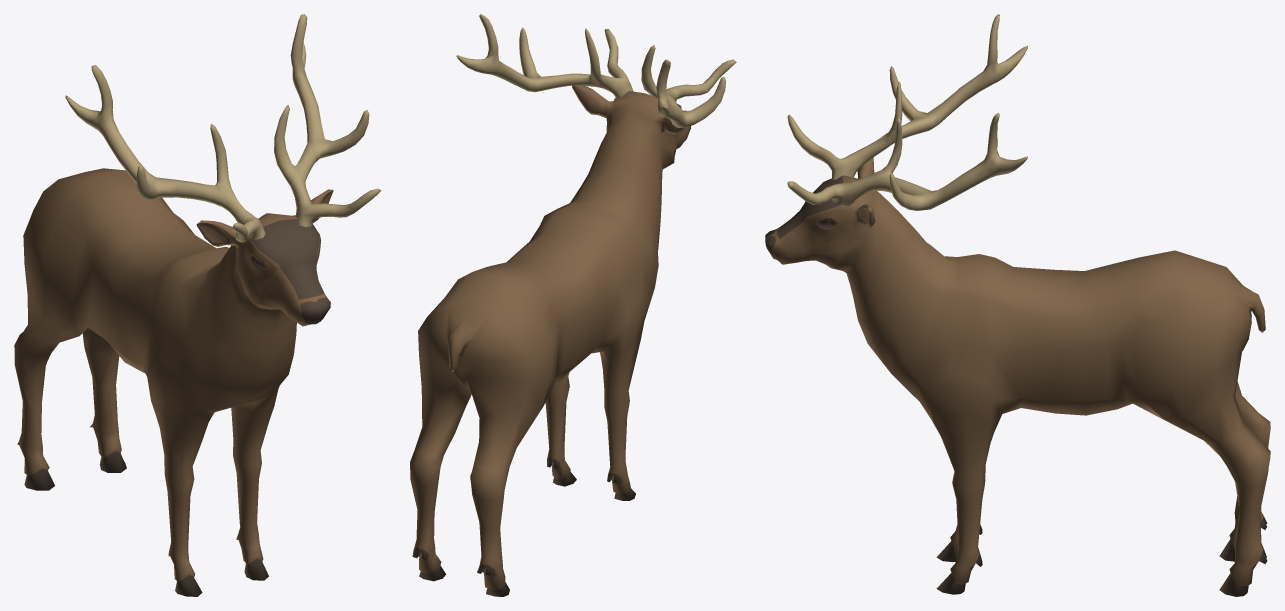
File: stag-branching-antlers.glb
3 renders of one model, left to right at view 1: azimuth 30°, elevation 25°; view 2: azimuth 150°, elevation 25°; view 3: azimuth 270°, elevation 25°, orthographic. The views are drawn at different scales.
Parts seen in each view (by area): view 1: stag-branching-antlers runtime mesh; view 2: stag-branching-antlers runtime mesh; view 3: stag-branching-antlers runtime mesh.
Part boxes in pixels (box(x1,y1,x2,y2)): stag-branching-antlers runtime mesh: box(14, 14, 381, 596); stag-branching-antlers runtime mesh: box(410, 14, 736, 596); stag-branching-antlers runtime mesh: box(765, 14, 1270, 596).
Size of the model in its own units: 0.9195 by 1.95 by 1.75.
